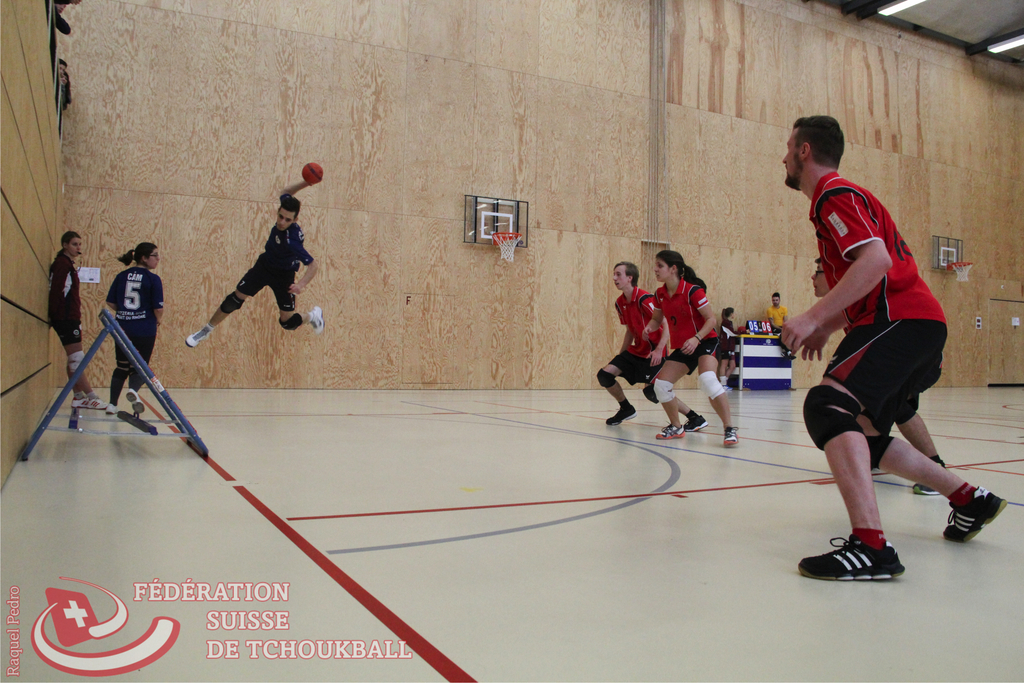Person: (44, 0, 1007, 580)
